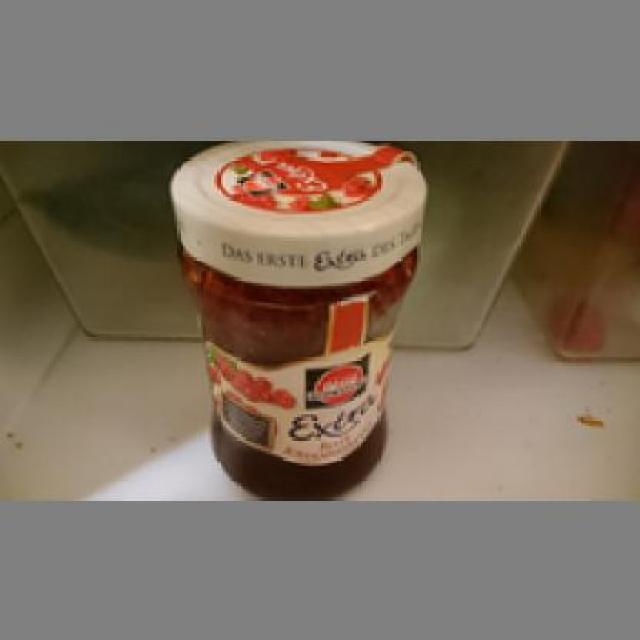Jam: (163, 137, 423, 492)
